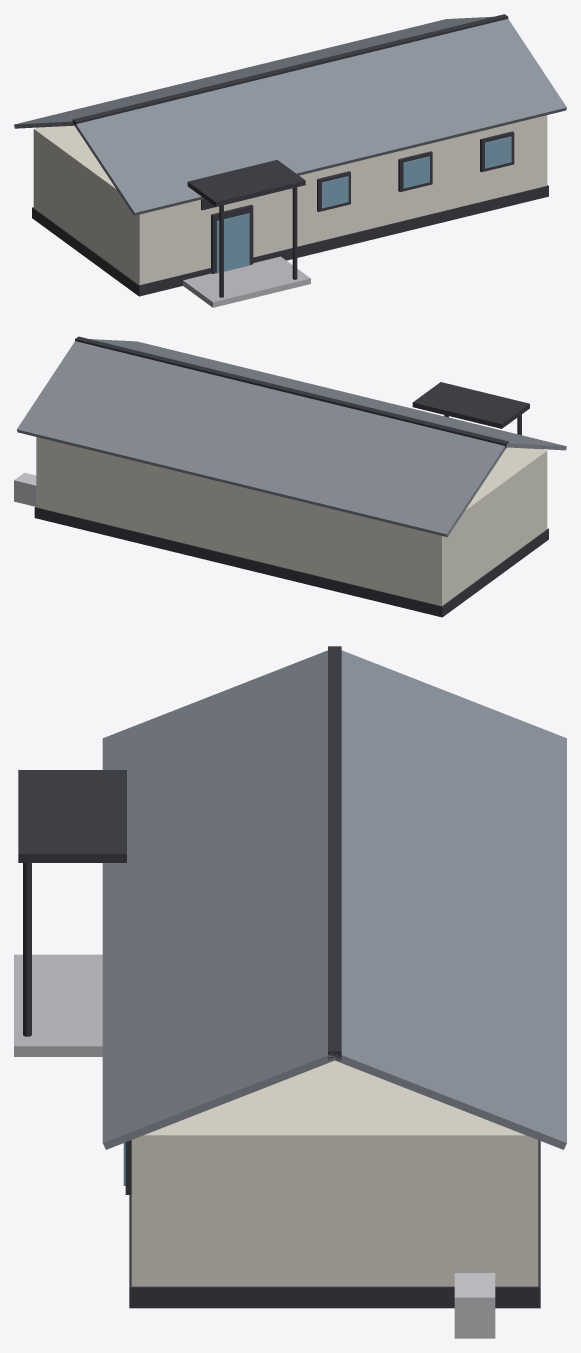
The model's file is predio.glb.
3 views of the same model, one above another, from view 1: azimuth 30°, elevation 25°; view 2: azimuth 150°, elevation 25°; view 3: azimuth 270°, elevation 25° (orthographic). The views are drawn at different scales.
Bounding box in the file's own units: 22.25 × 6.53 × 12.24.
